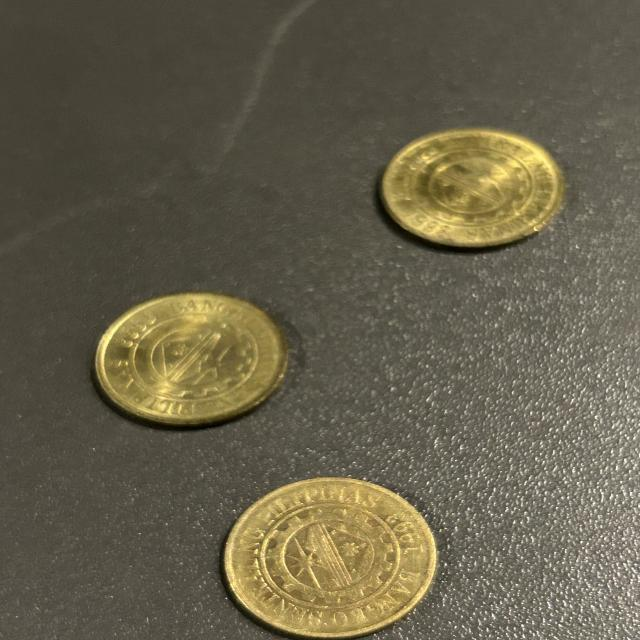25Cent_Old_Back: (248, 506, 417, 628), (116, 306, 282, 406), (400, 136, 531, 248)
